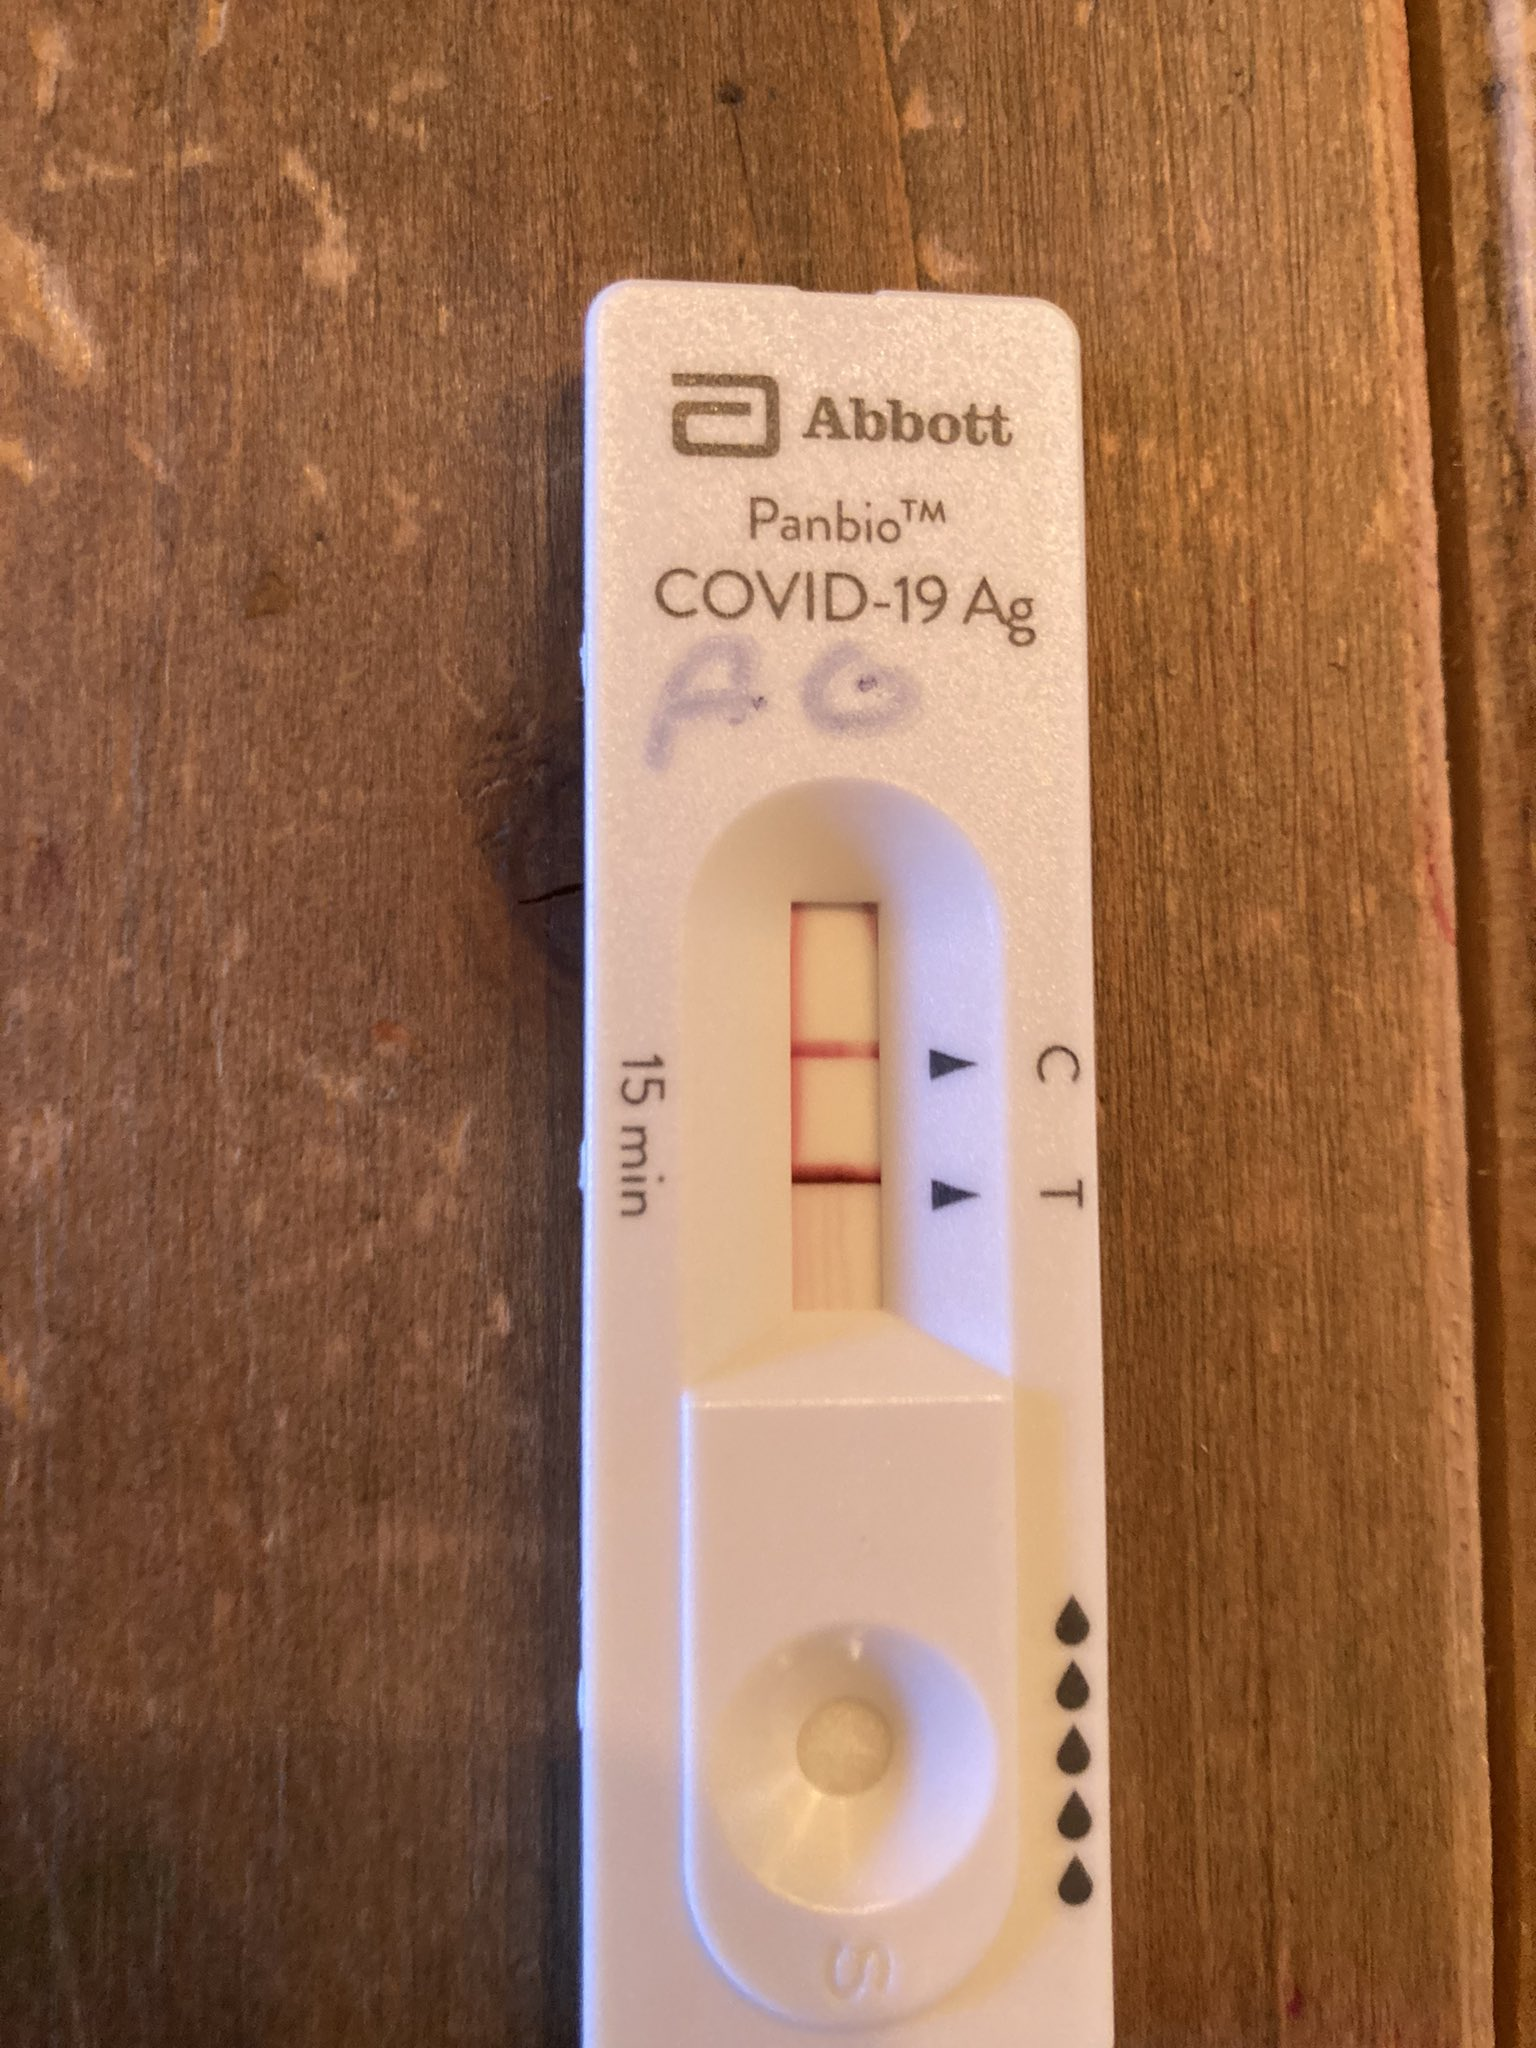positive: (731, 795, 987, 1385)
